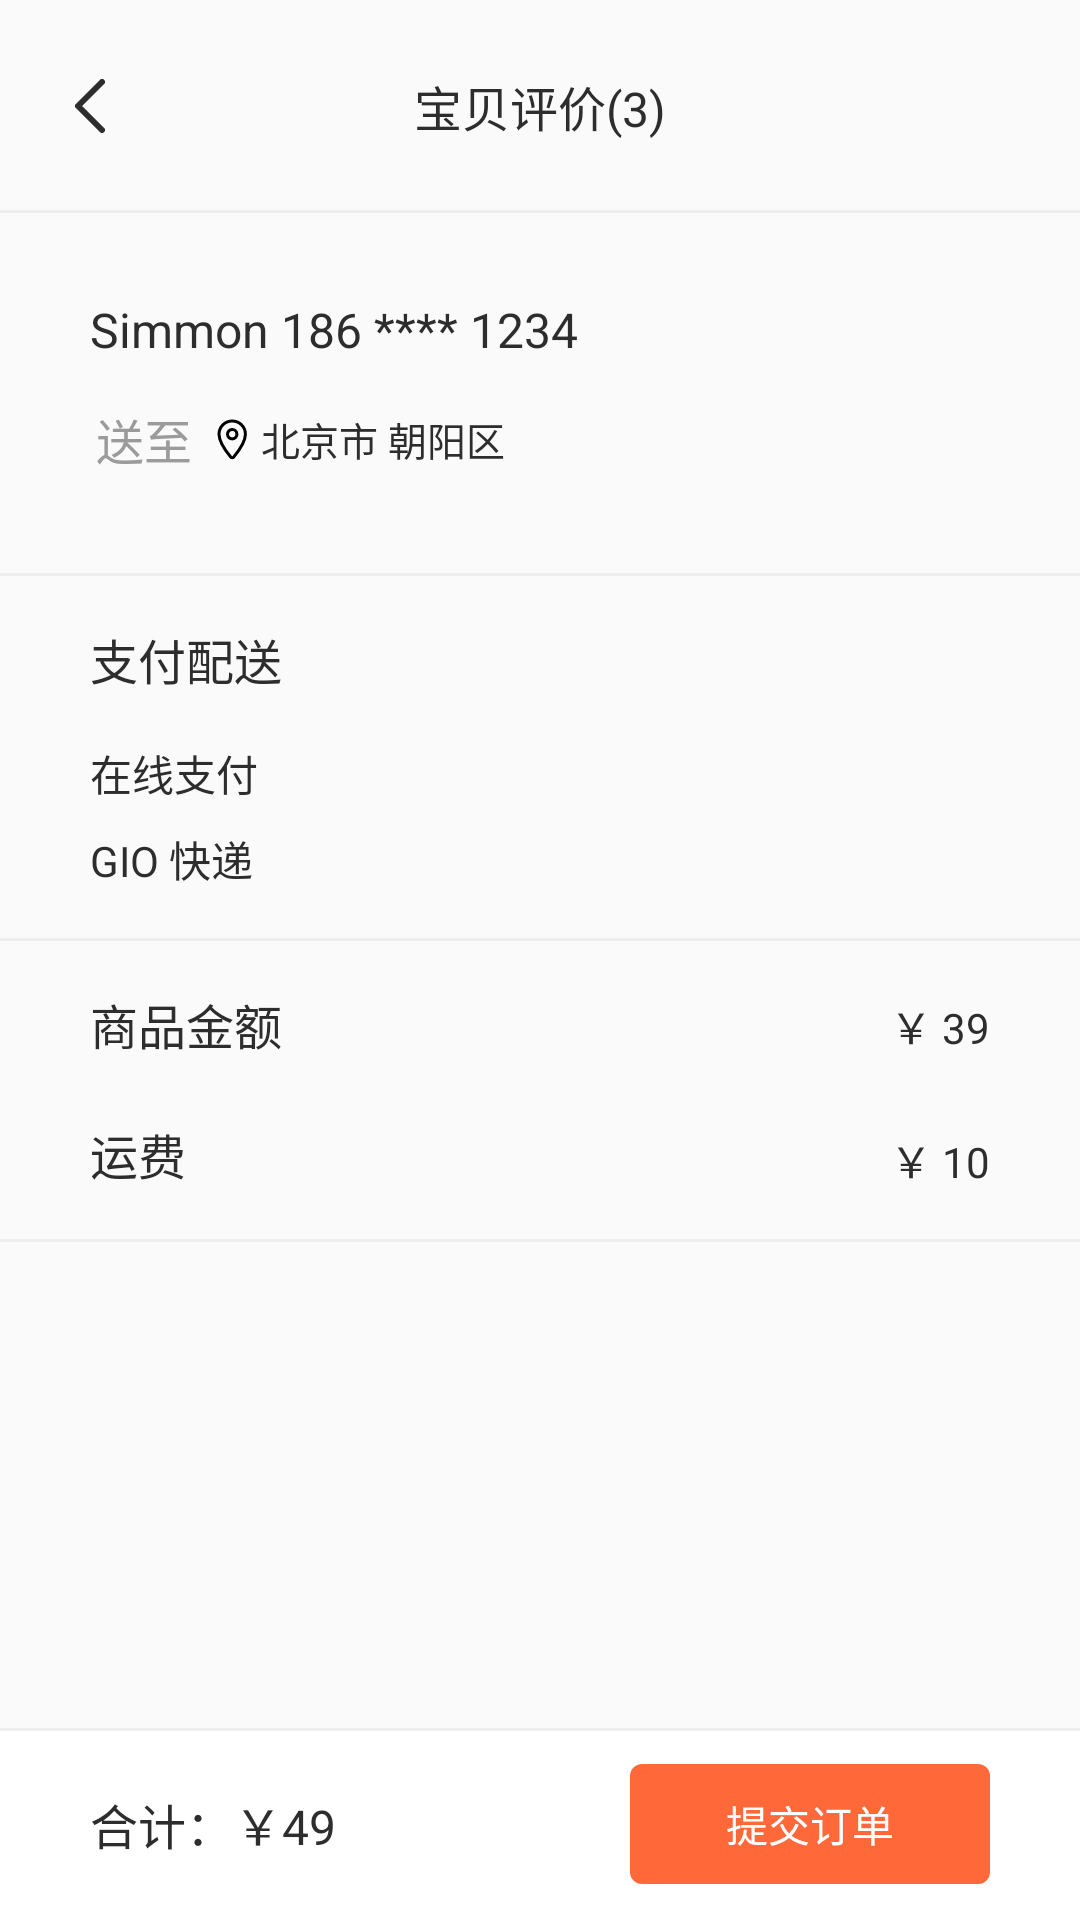

Locate icon controls on the screen. Image size 1080 x 1920, boxes as {"x1": x1, "y1": y1, "x2": x2, "y2": y2}.
arrow left: {"x1": 75, "y1": 79, "x2": 105, "y2": 133}
